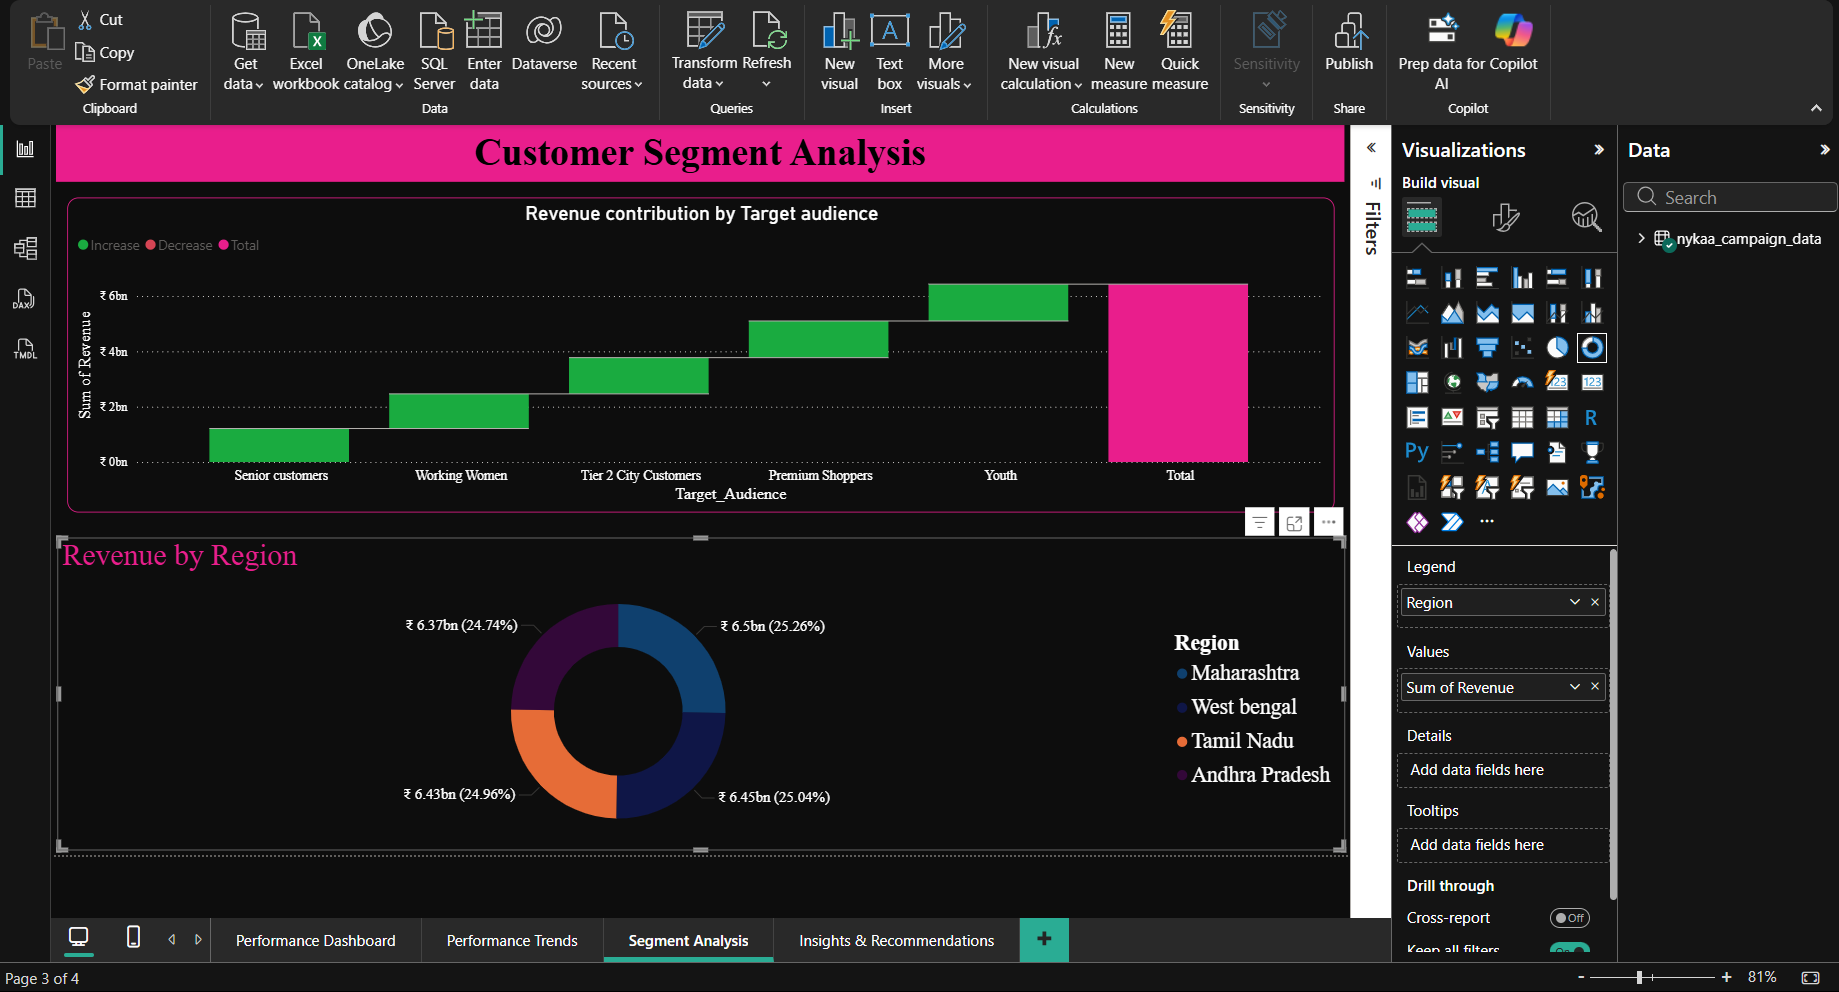

The page's visual inventory and layout, read from the dashboard file:
{"tool":"powerbi","page":{"name":"Segment Analysis","canvas":[1280,720],"ordinal":2},"visuals":[{"type":"textbox","box":[5.3,0,1269.4,55.8],"z":0},{"type":"waterfallChart","title":"Revenue contribution by Target audience","fields":{"Category":["nykaa_campaign_data.Target_Audience"],"Y":["Sum(nykaa_campaign_data.Revenue)"]},"box":[16,71.4,1249,310.4],"z":1000},{"type":"donutChart","title":"Revenue by Region","fields":{"Category":["nykaa_campaign_data.Region"],"Y":["Sum(nykaa_campaign_data.Revenue)"]},"box":[6,406,1269,310],"z":2000}]}

Visuals, with their boxes on the page's 1280x720 design canvas (x1, y1, x2, y2). These are canvas units, not pixel positions in the 1839x992 screenshot, which may show the page scaled, cropped or inside an application window:
textbox: x1=5 y1=0 x2=1275 y2=56
"Revenue contribution by Target audience" waterfallChart: x1=16 y1=71 x2=1265 y2=382
"Revenue by Region" donutChart: x1=6 y1=406 x2=1275 y2=716
